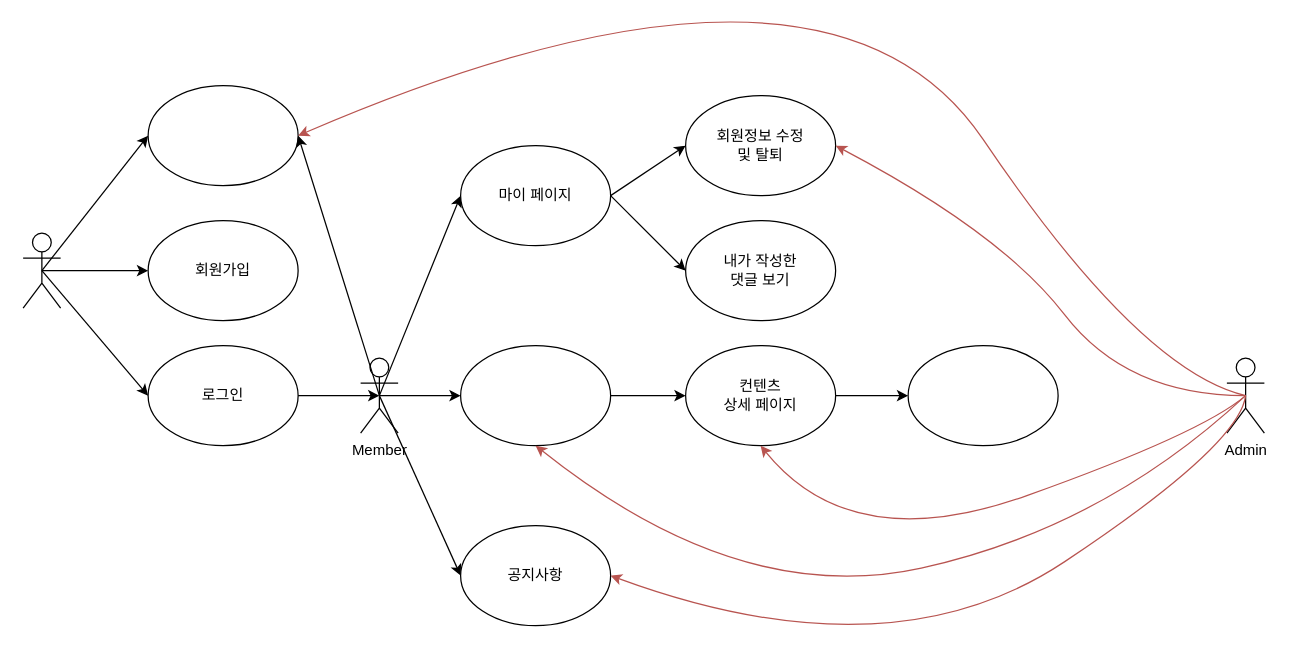
This 1289x648 diagram has some shape labels left out. Each missing label, with the centre of its shape:
"Guest" goes at pixel 41 270.
"소개 페이지" goes at pixel 222 135.
"좋아요, 댓글 기능" goes at pixel 982 395.
"컨텐츠 목록" goes at pixel 535 395.
